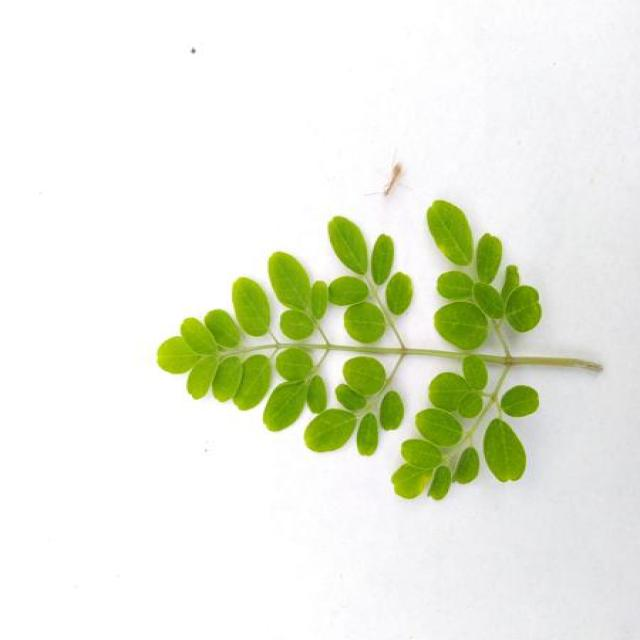drumstick: (157, 200, 602, 499)
